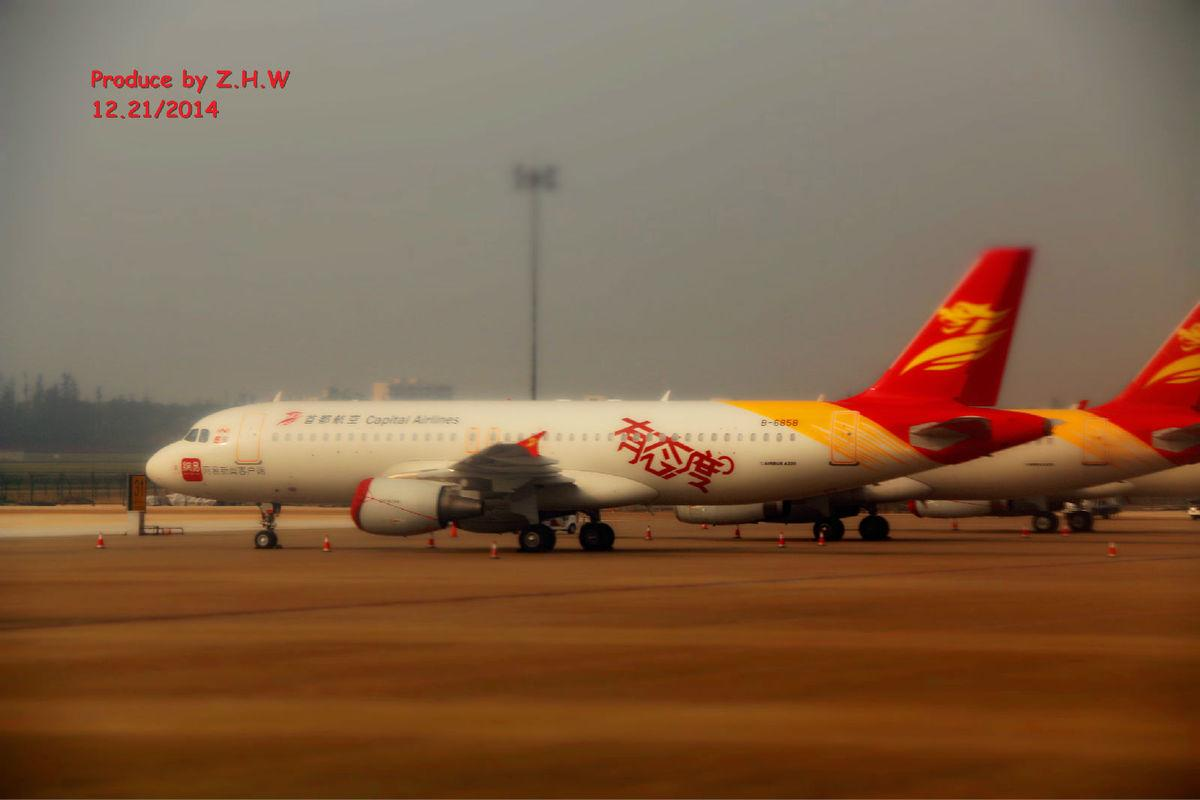airplane: (131, 238, 1059, 561)
